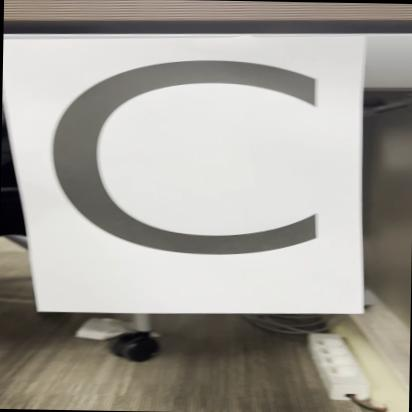seat: (0, 30, 410, 306)
